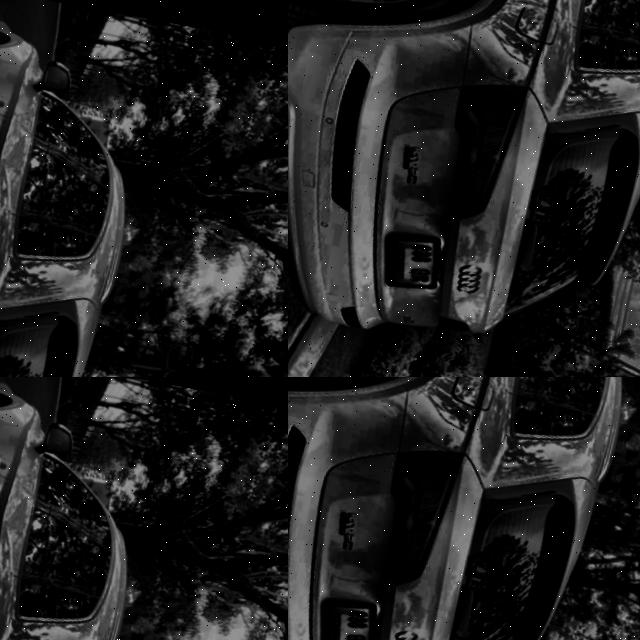license-plate: (313, 596, 381, 640)
